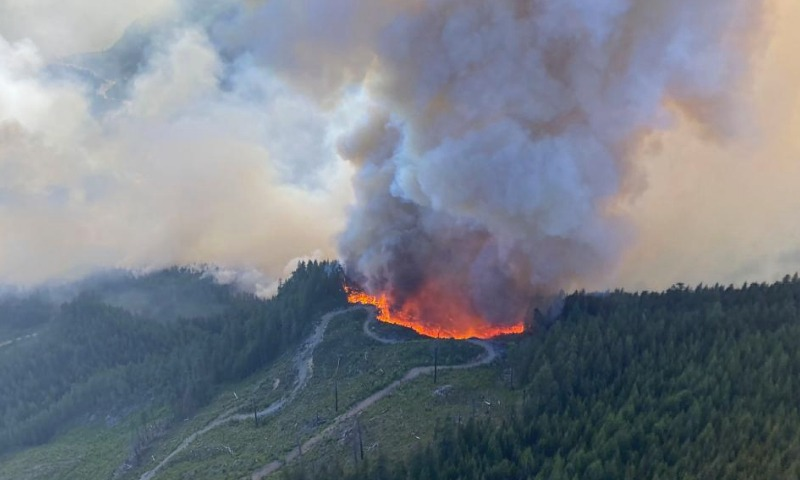forest_fire: (344, 284, 523, 338)
